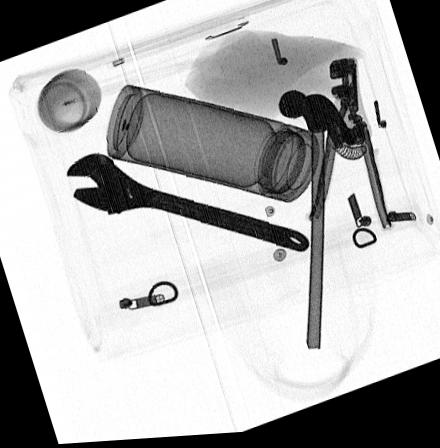Hammer: (276, 94, 353, 357)
Pliers: (301, 59, 393, 243)
Wrench: (64, 156, 310, 262)
